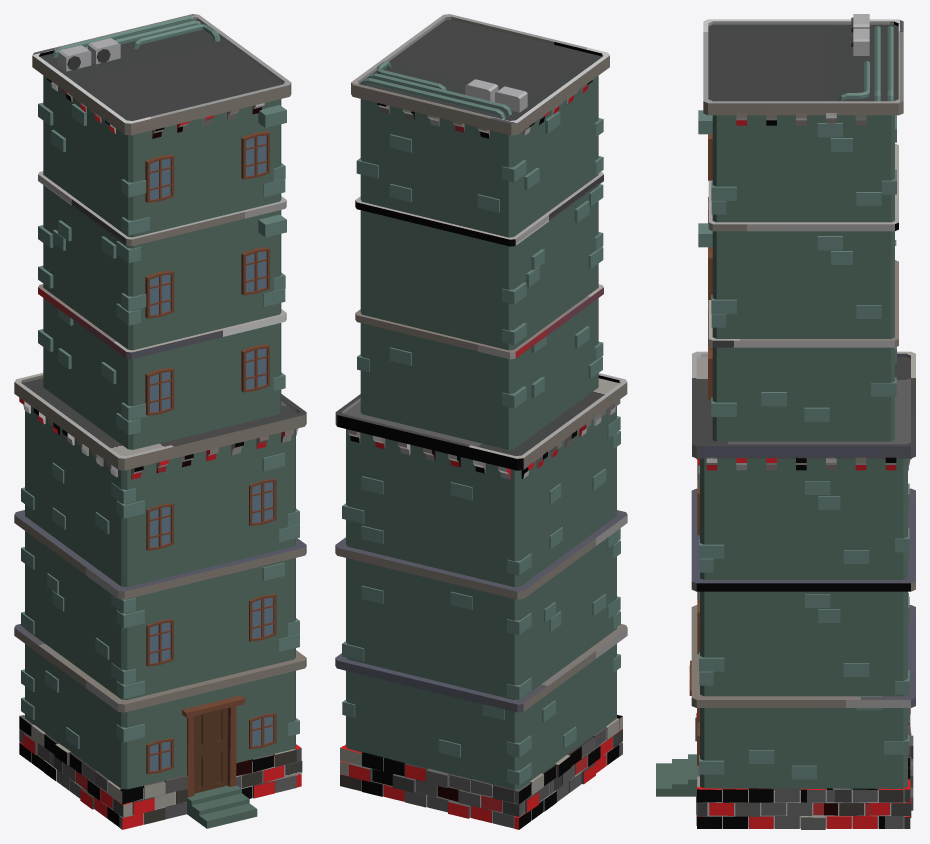
File: quaternius-ultimate-textured-building-6-story-stack-mat.glb
The picture shows the model from 3 angles, left to right: view 1: azimuth 30°, elevation 25°; view 2: azimuth 150°, elevation 25°; view 3: azimuth 270°, elevation 25°; orthographic projection. The views are drawn at different scales.
Parts seen in each view (by area): view 1: 6Story_Stack_Mat; view 2: 6Story_Stack_Mat; view 3: 6Story_Stack_Mat.
Boxes of the visible parts, box(x1,y1,x2,y2) form: 6Story_Stack_Mat: box(14, 14, 306, 829); 6Story_Stack_Mat: box(335, 14, 627, 829); 6Story_Stack_Mat: box(656, 14, 915, 829).
Size of the model in its own units: 2.16 by 7.8 by 2.5.
3 materials, 3 textured.
